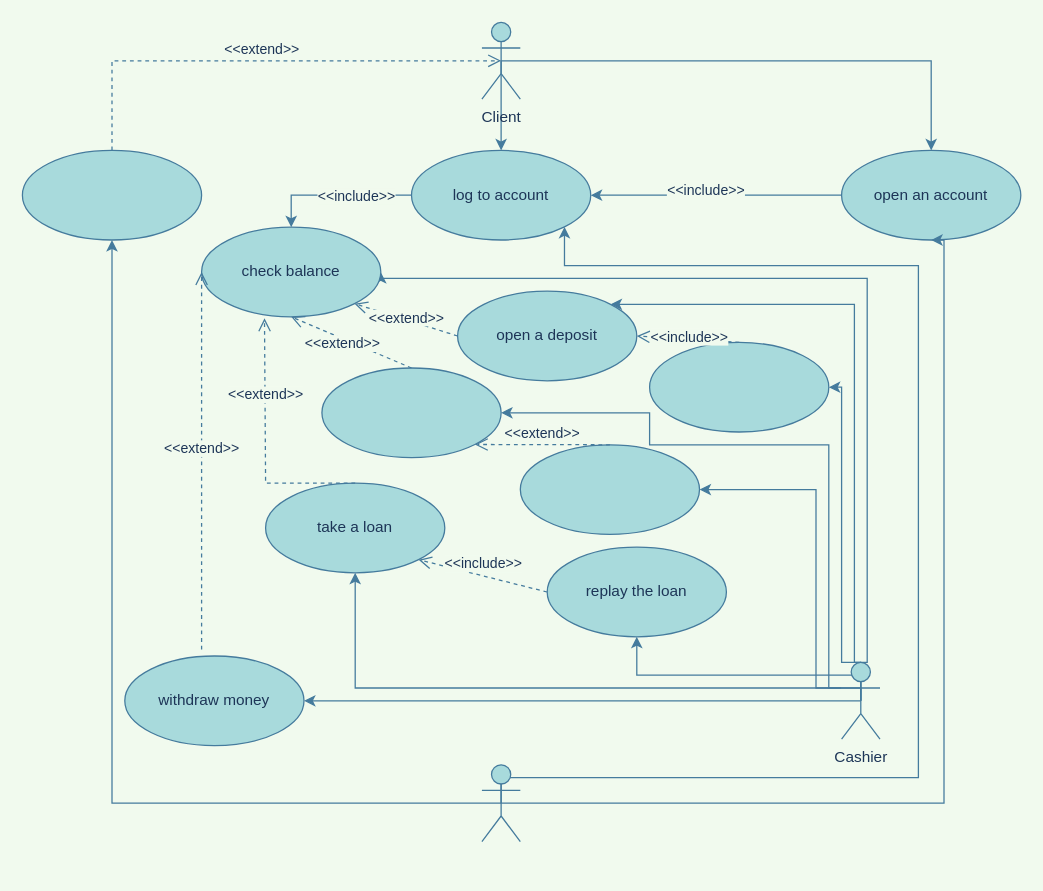
The diagram is 1043 pixels wide and 891 high, and some of its shapes have lost their labels. The centre of each missing label's shape, as x and y in pixels:
close a deposit: the point at 738,386
close an account: the point at 111,194
Manager: the point at 500,803
put money: the point at 411,412
transfer money: the point at 609,489
